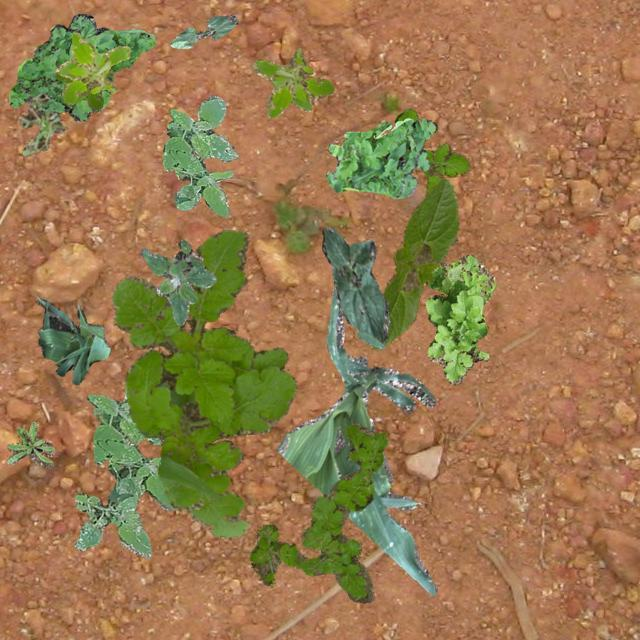crop: (276, 290, 436, 594), (382, 178, 458, 344), (321, 226, 388, 348), (36, 294, 110, 384), (168, 15, 236, 48)
weed: (110, 228, 296, 538), (248, 422, 386, 602), (74, 384, 175, 558), (8, 12, 156, 120), (162, 95, 238, 216), (424, 254, 494, 384), (324, 118, 436, 198), (138, 238, 216, 324), (394, 108, 469, 192), (250, 48, 332, 118), (54, 32, 130, 104), (18, 91, 66, 156), (52, 68, 111, 109), (6, 421, 54, 466)
